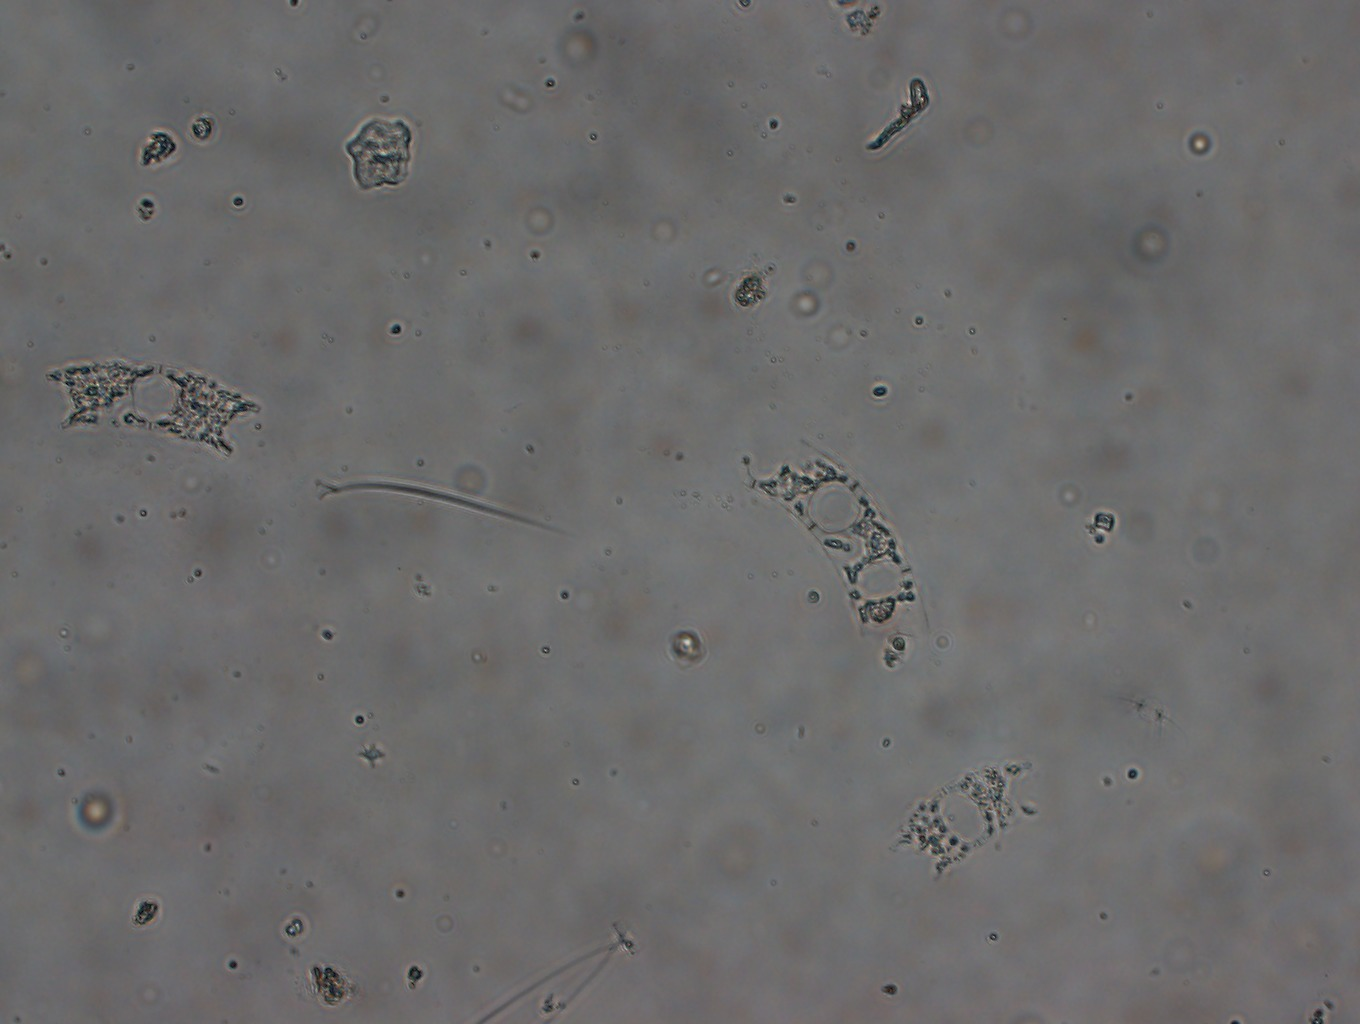eucampia: (742, 440, 928, 637), (43, 360, 262, 457), (889, 758, 1042, 882)
